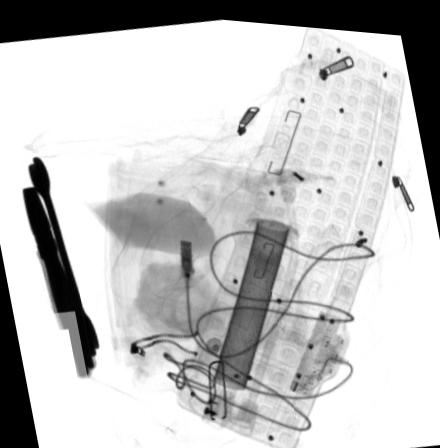Pliers: (15, 184, 100, 380)
Wrench: (23, 153, 102, 356)
